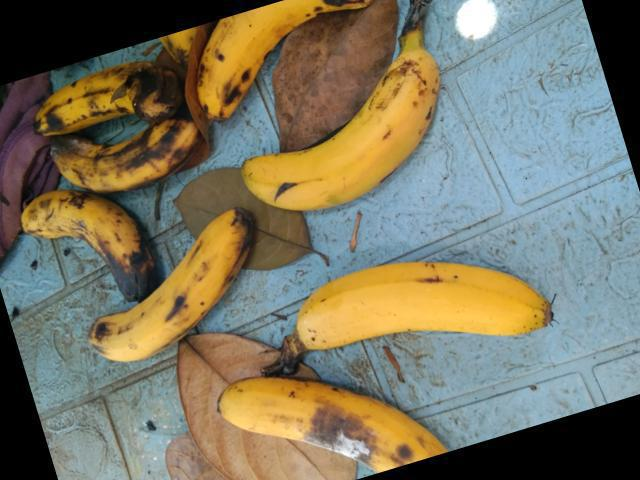freshripe: (283, 227, 563, 372)
ripe: (232, 52, 466, 232), (45, 203, 260, 380), (212, 372, 454, 479), (188, 0, 361, 124)
rotten: (24, 188, 163, 306), (34, 126, 217, 194), (18, 62, 176, 130), (298, 402, 383, 479)
